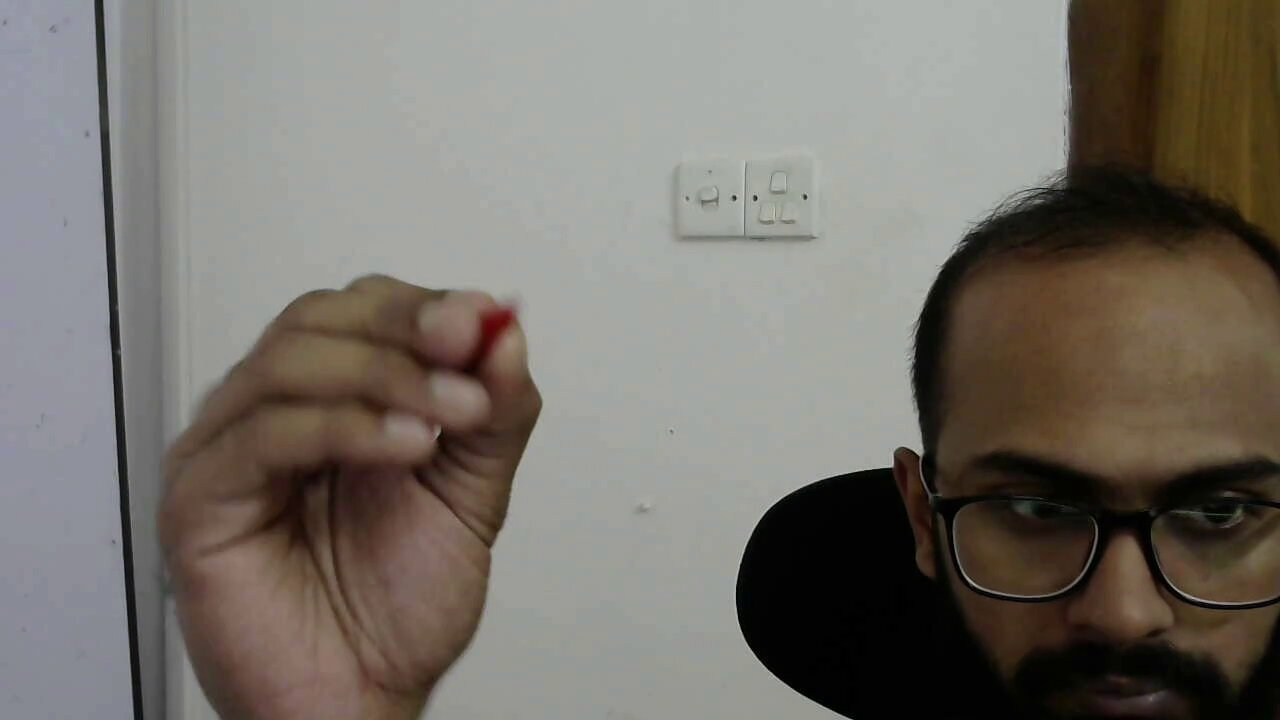pointer: (158, 275, 545, 609)
